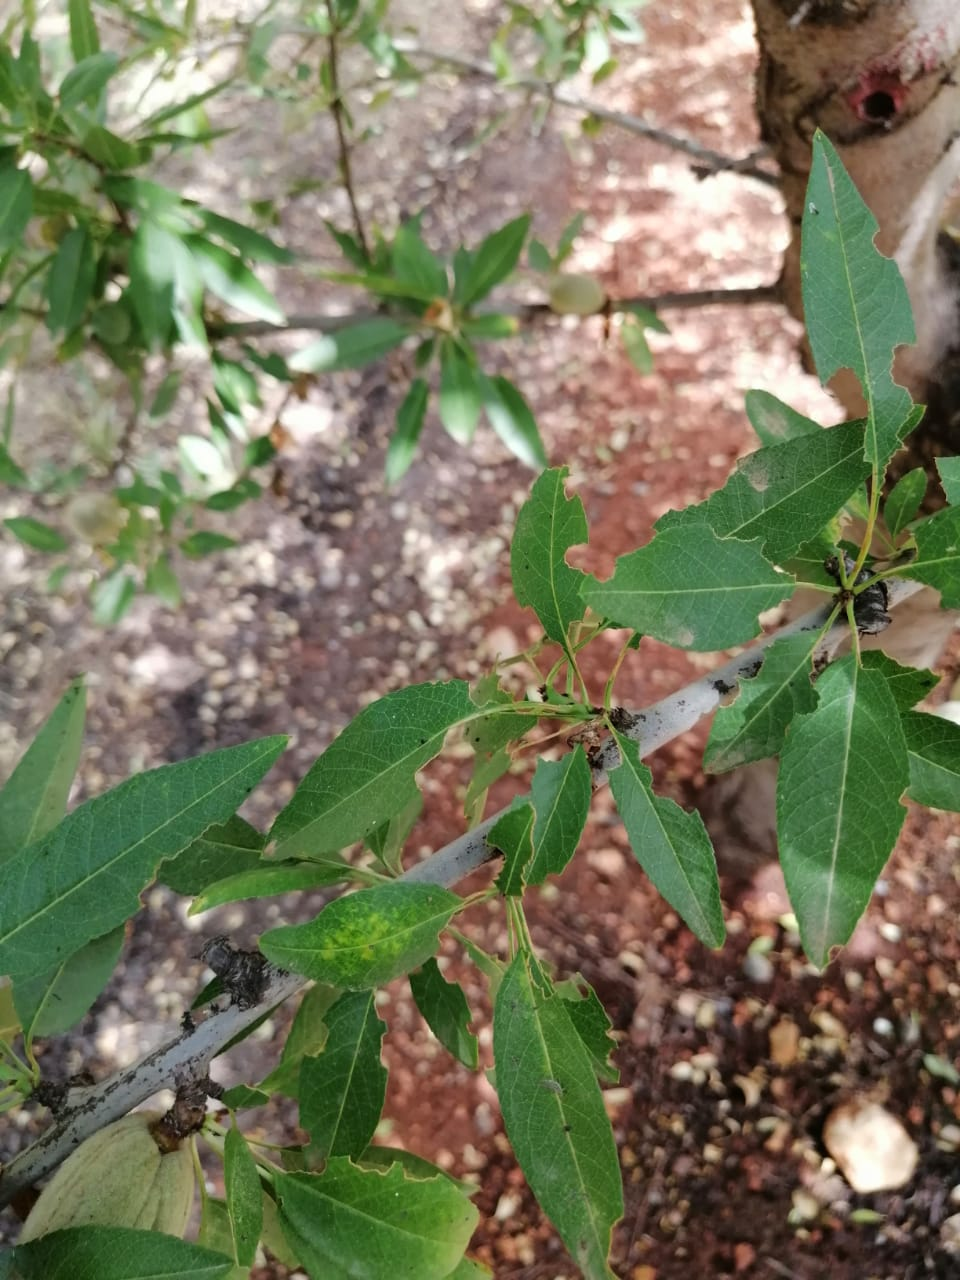othyorinques: (1, 731, 295, 981), (259, 665, 487, 864), (801, 129, 921, 499), (776, 650, 911, 971), (495, 948, 624, 1280), (576, 519, 801, 652), (272, 1153, 480, 1280), (249, 881, 467, 994), (510, 461, 591, 645), (524, 741, 595, 892)
